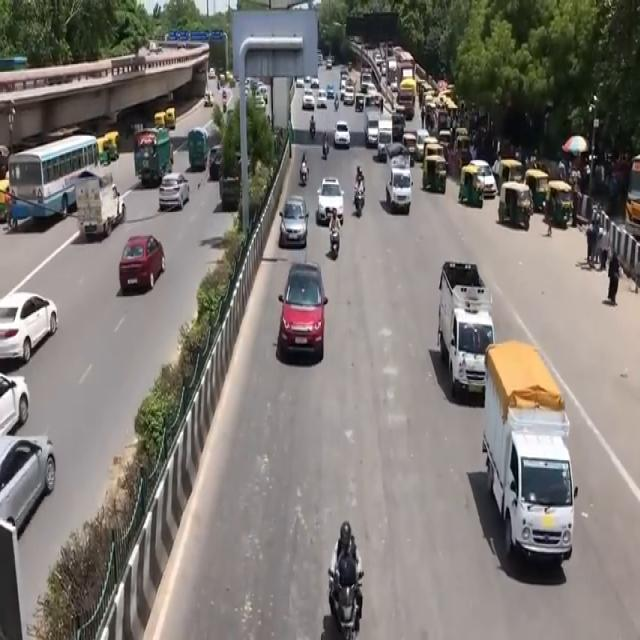BUS: (10, 133, 103, 231)
MOTORCYCLE: (332, 572, 365, 638), (329, 227, 340, 260), (354, 186, 364, 218)
SUV: (279, 260, 324, 366)
TRUCK: (491, 341, 578, 571), (442, 262, 495, 401), (76, 180, 122, 240), (134, 128, 174, 182), (388, 150, 414, 218), (187, 127, 207, 170)
